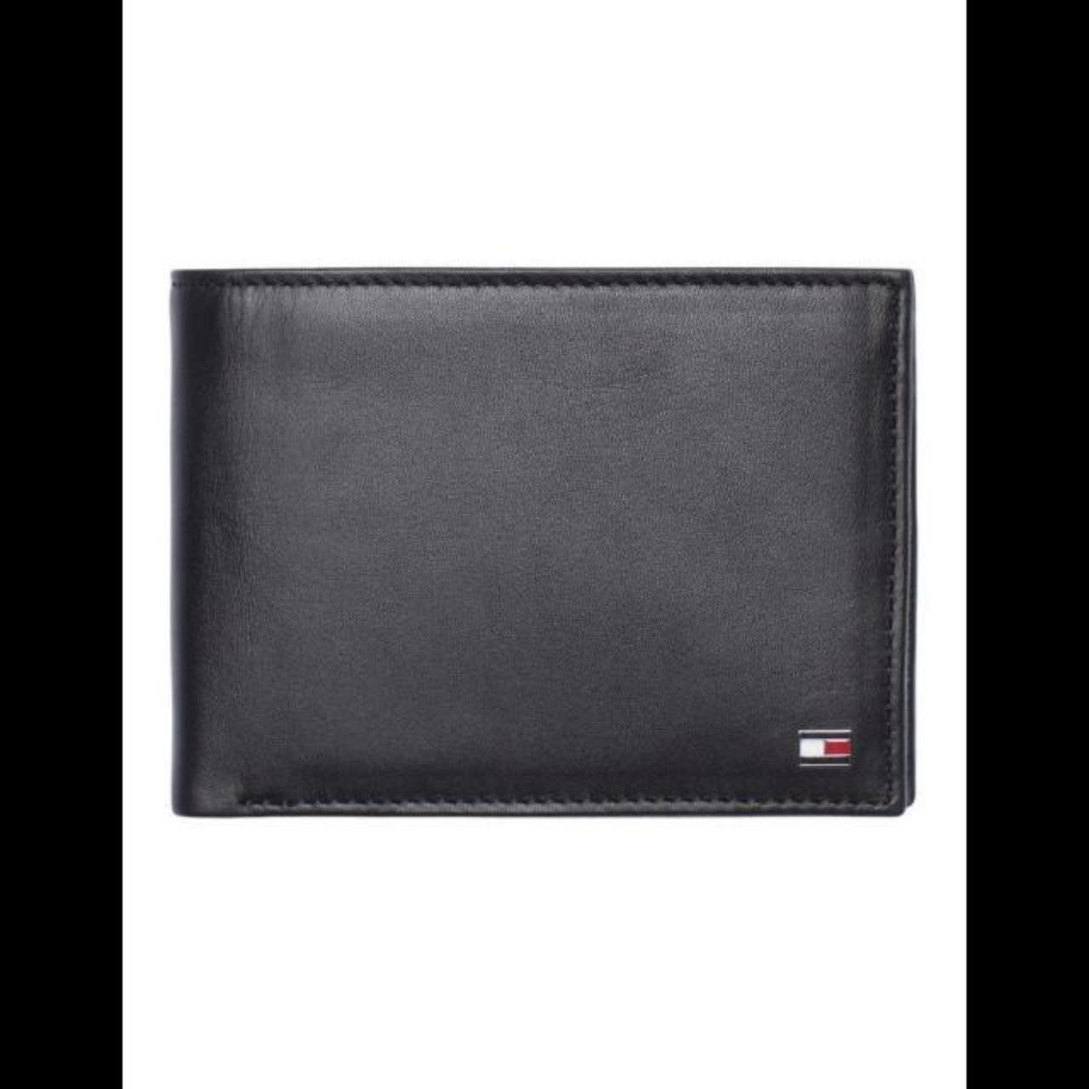wallet: (147, 233, 945, 868)
